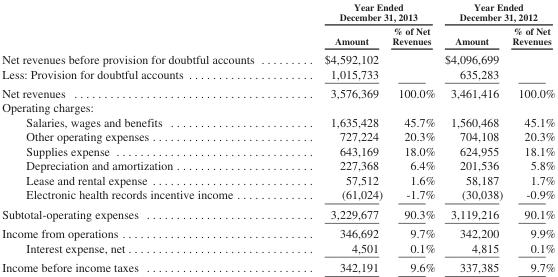table: (1, 1, 554, 273)
table column: (1, 1, 288, 273), (288, 1, 386, 273), (439, 1, 506, 273), (386, 1, 439, 273), (506, 1, 554, 273)
table column header: (1, 1, 554, 49)
table projected row header: (1, 100, 554, 114)
table row: (1, 23, 554, 49), (1, 1, 554, 23), (1, 203, 554, 223), (1, 49, 554, 66), (1, 66, 554, 83), (1, 83, 554, 100), (1, 223, 554, 240), (1, 240, 554, 257), (1, 187, 554, 203), (1, 257, 554, 273), (1, 114, 554, 129), (1, 143, 554, 158), (1, 172, 554, 187), (1, 100, 554, 114), (1, 129, 554, 143), (1, 158, 554, 172)
table spanning cell: (288, 1, 439, 23), (439, 1, 554, 23)
